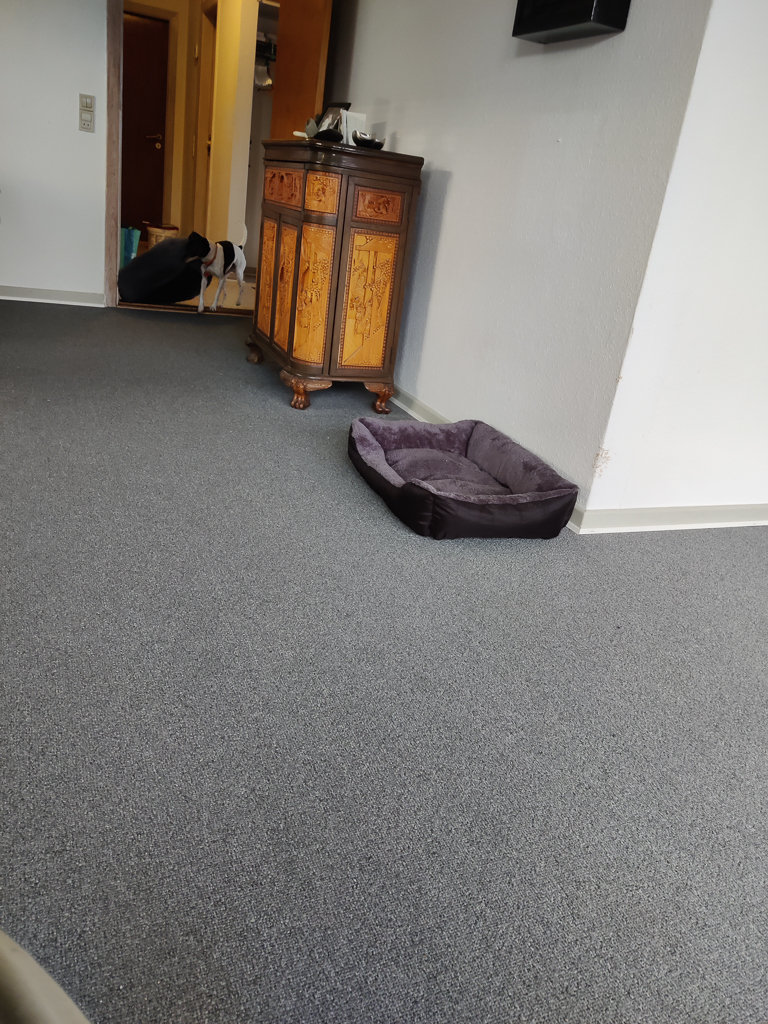Dog: (174, 217, 255, 318)
Humanoid: (0, 912, 106, 1024)
